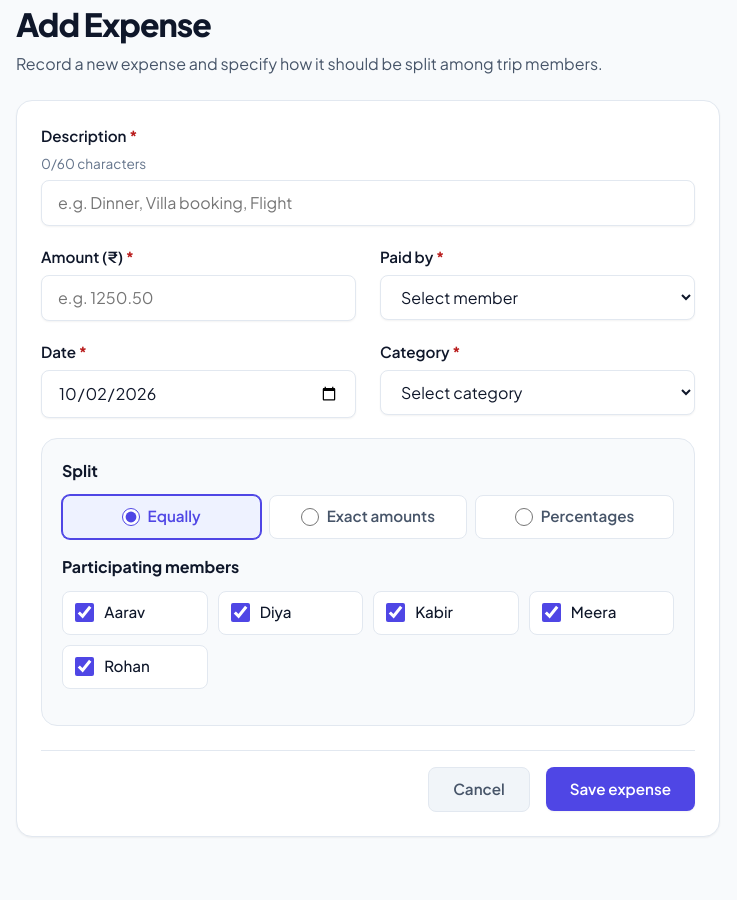
Test case: AddExpenseForm › 10. Errors clear live as user corrects fields (derived-errors design)
Click the button "Save expense" at point(620, 789), box [546,767,695,811]
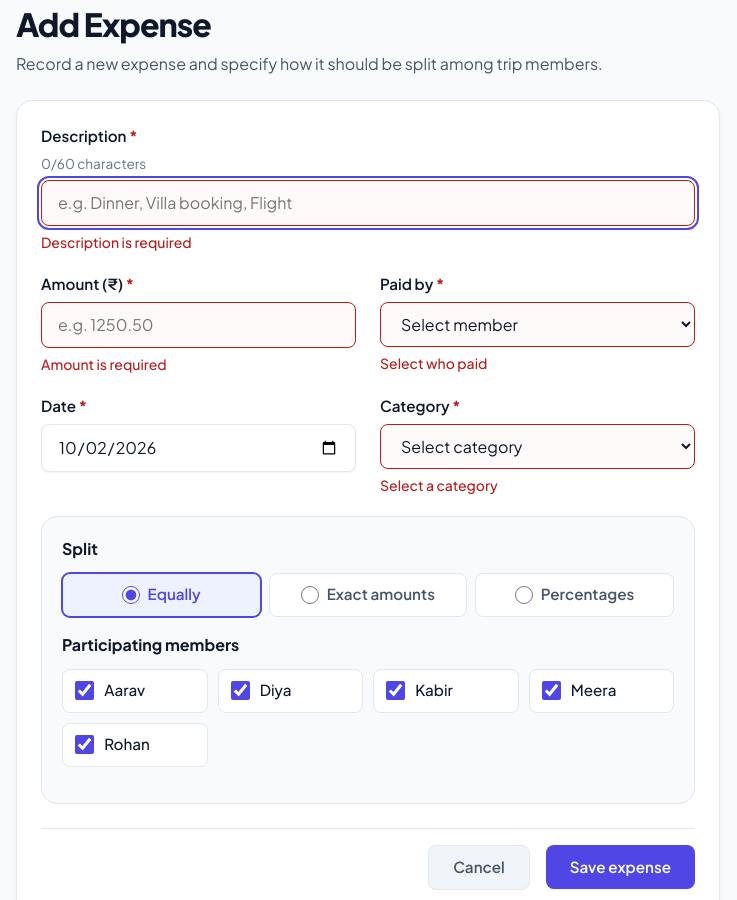
Result: the text "Description is required" is shown at [41,233,192,251]
Type "Coffee" into the field labelled "Description *" at point(368, 203), box [41,180,695,226]
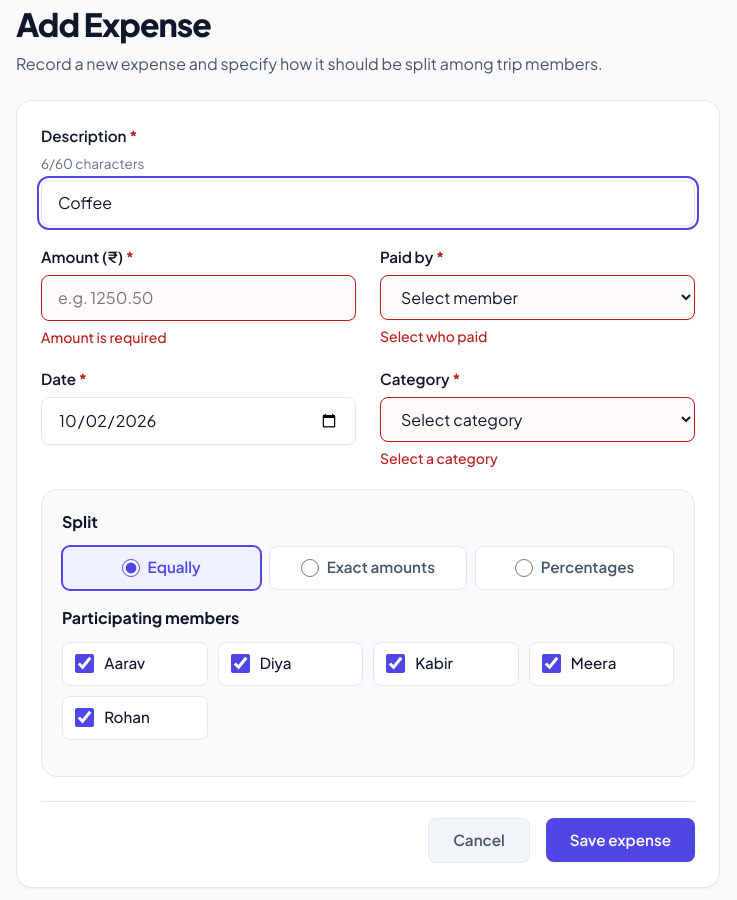
Result: the text "Description is required" is gone
